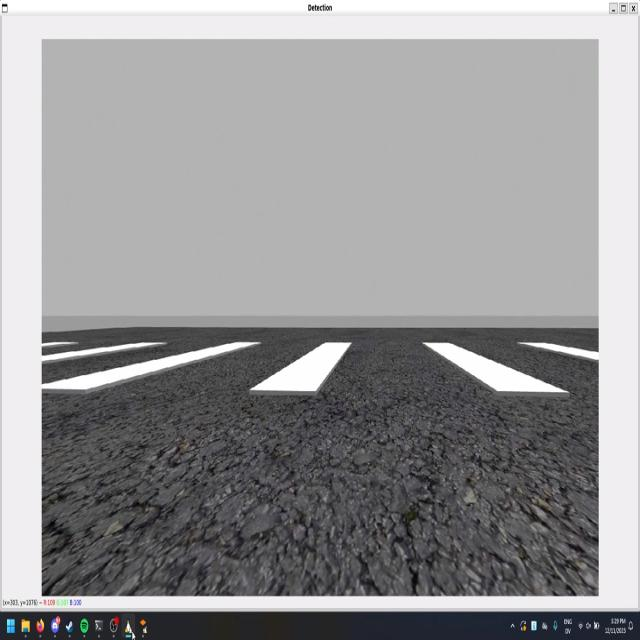crosswalk: (41, 339, 600, 399)
